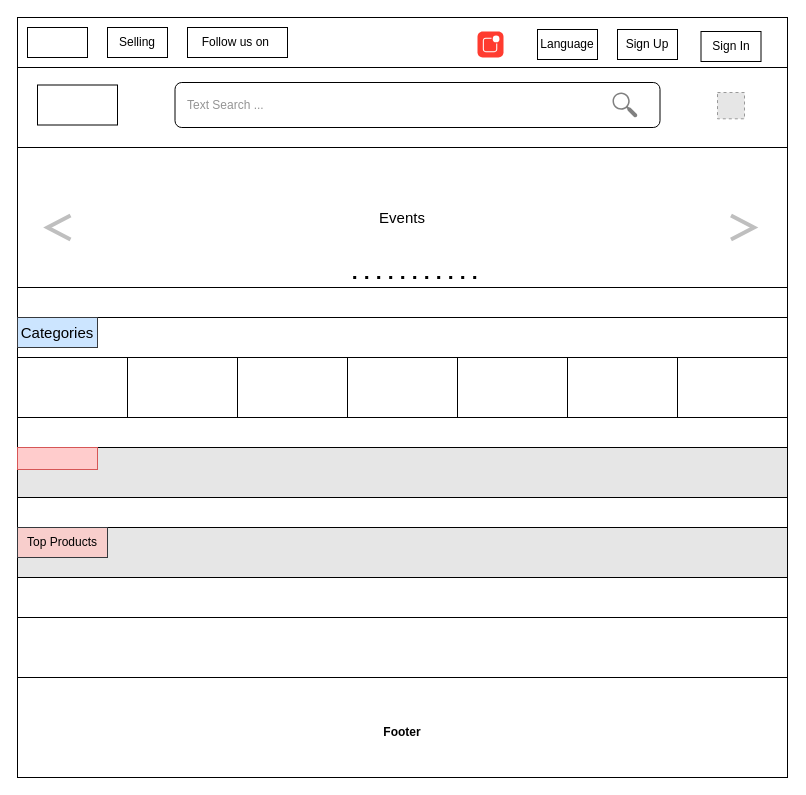
Some shapes in this 806 by 795 pixel diagram are drawn without their labels. Grey dashed boxes stand in for pictures. The centre of each missing label's shape, as x and y in pixels:
Daily Discover: (402,647)
Flash Sale: (57,458)
Logo: (77,104)
Seller: (57,42)
